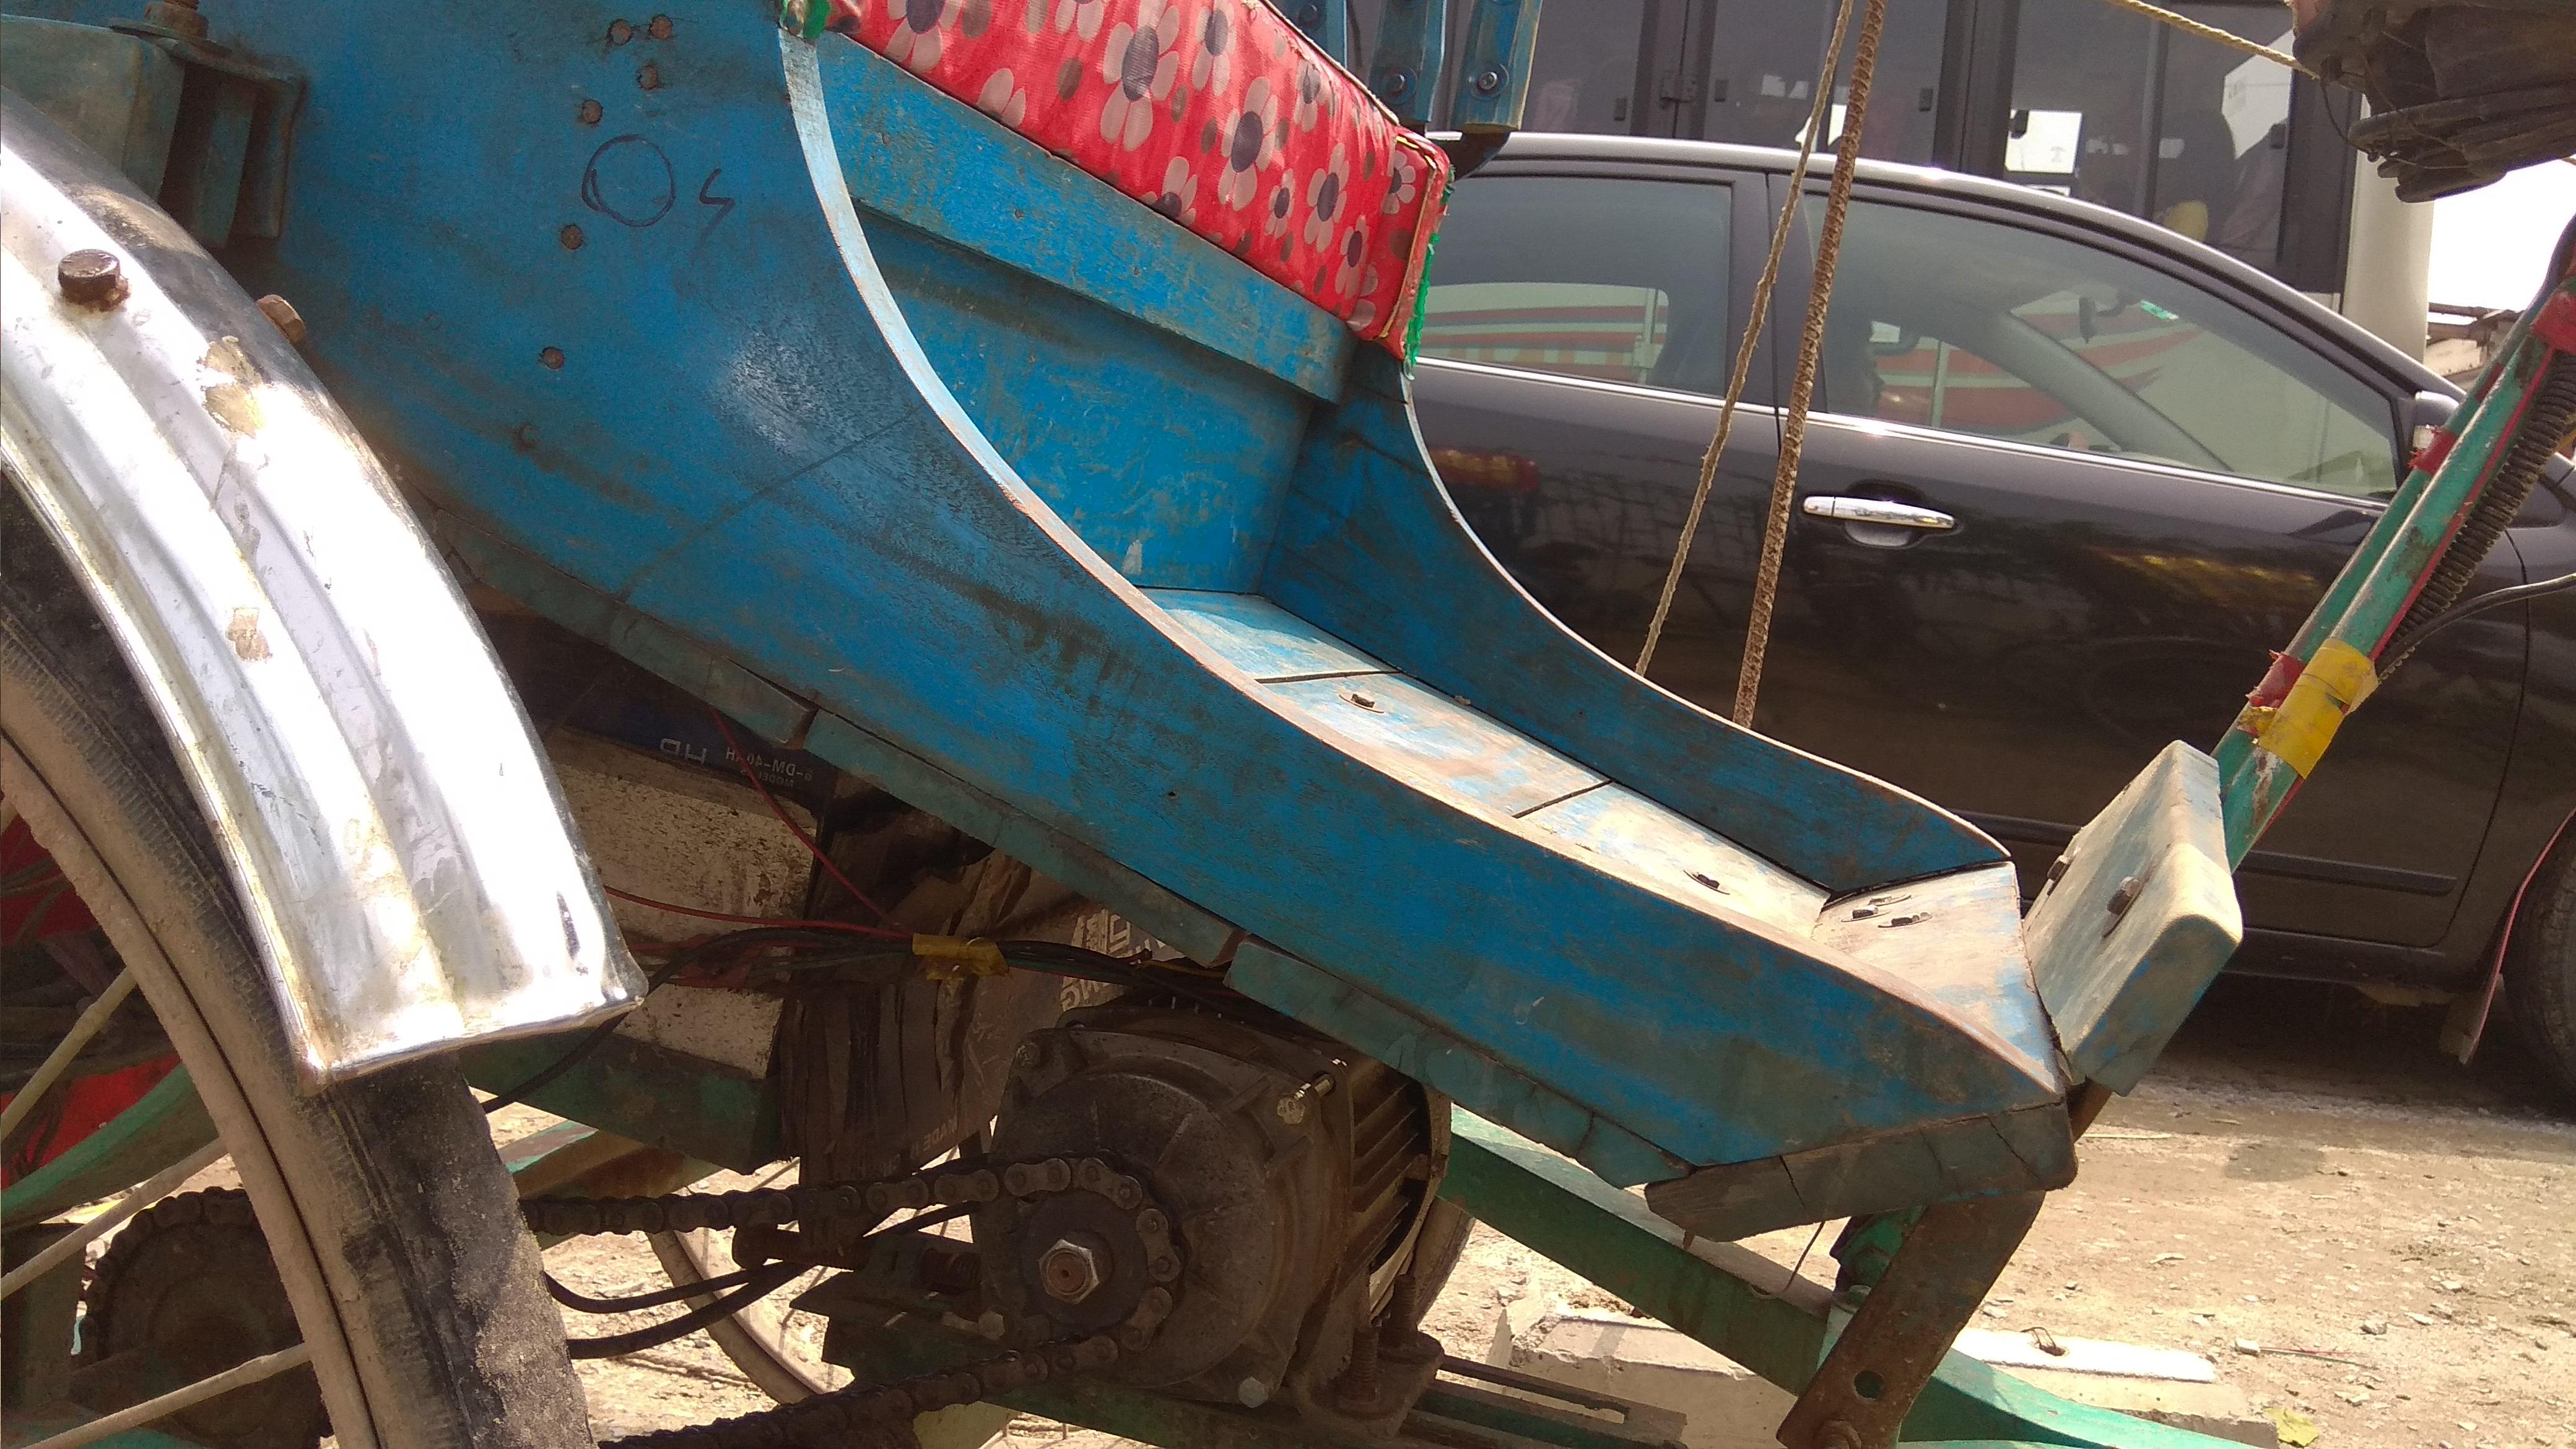Rickshaw: (5, 7, 2450, 1440)
